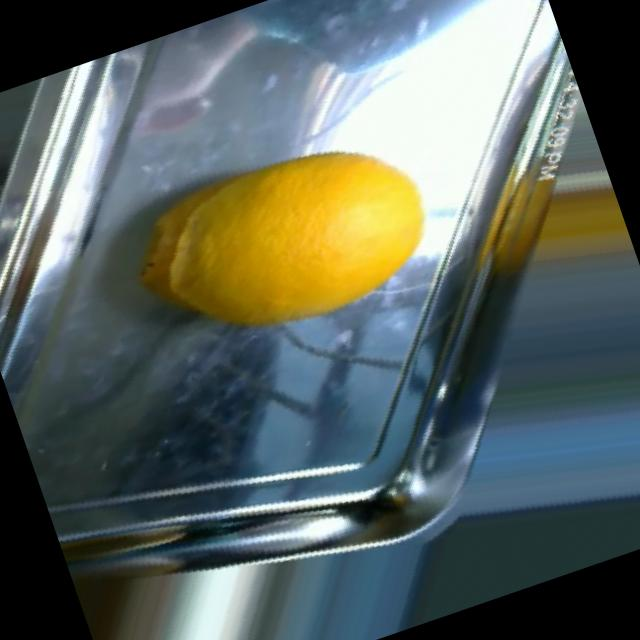Fruit: (85, 132, 337, 381)
